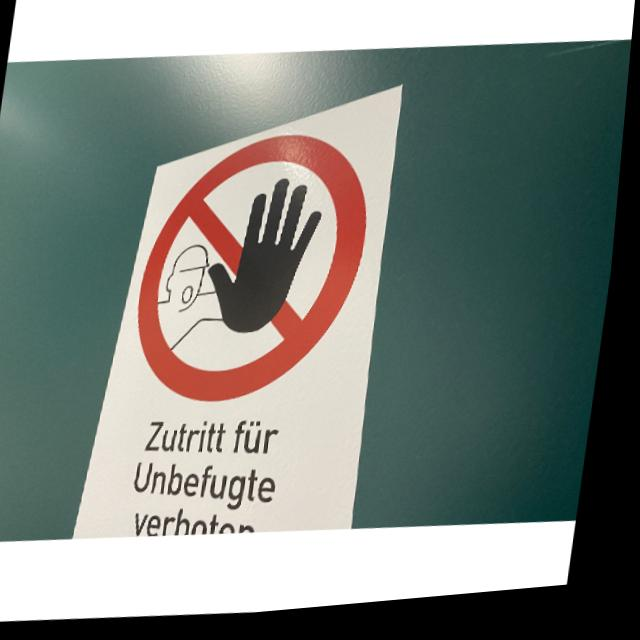No access for unauthorized persons: (129, 127, 385, 419)
